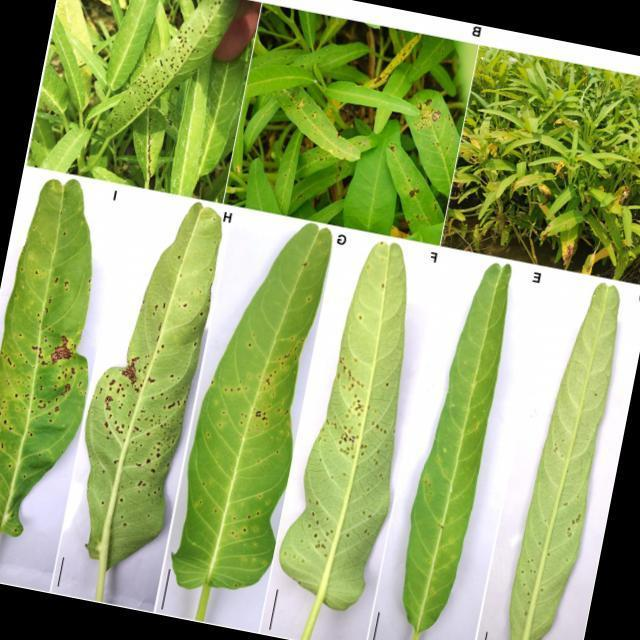Bacterial Spot: (182, 237, 326, 567), (91, 247, 214, 527), (284, 348, 402, 580), (0, 254, 94, 508), (105, 0, 233, 154), (508, 480, 589, 635)
